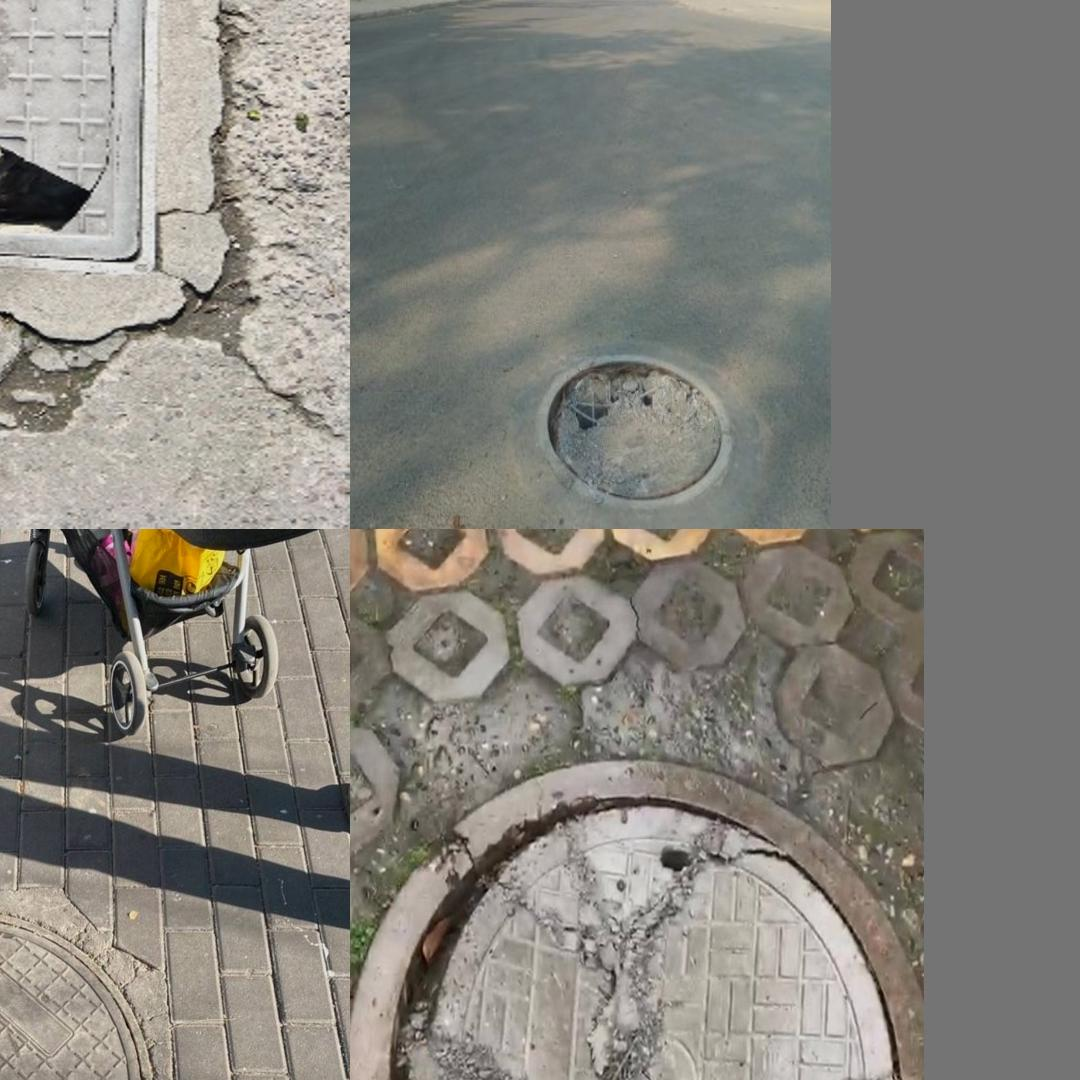broke: (388, 795, 908, 1080), (0, 0, 165, 268), (537, 352, 732, 509), (0, 907, 155, 1080)
